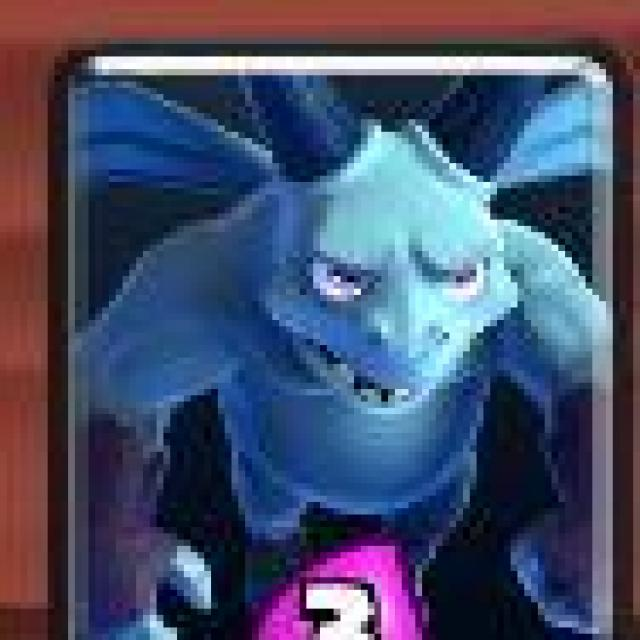Minions: (47, 40, 616, 640)
